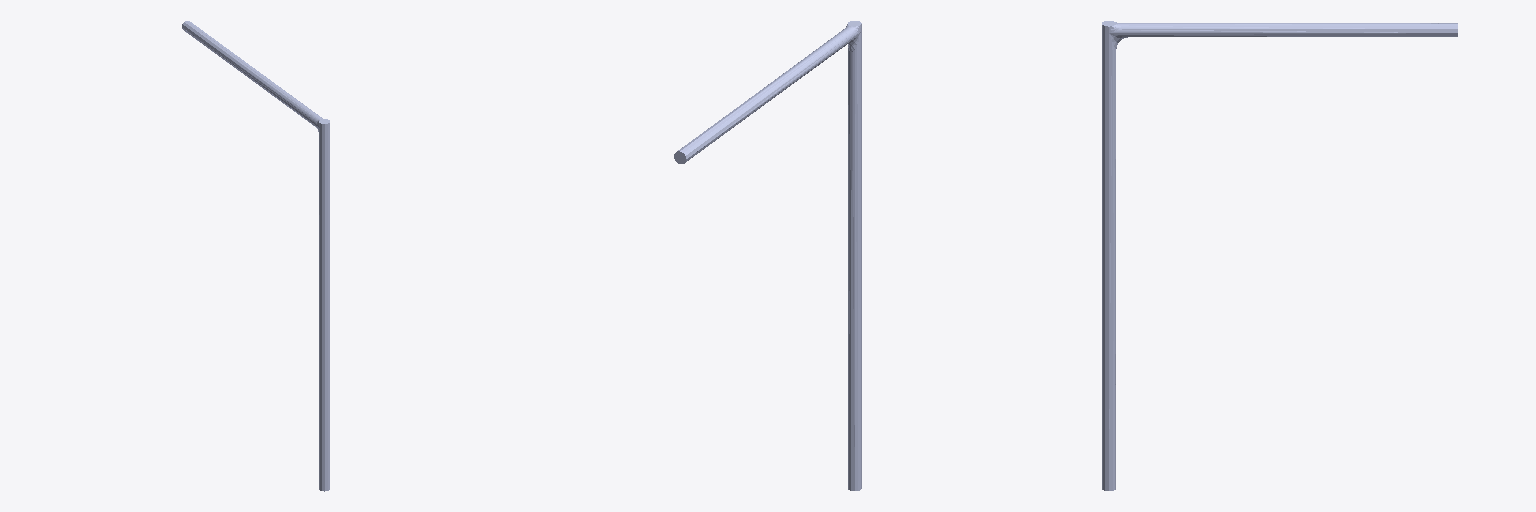
robot.urdf — gate:
<robot
  name="gate">
  <link
    name="gate">
    <inertial>
      <origin
        xyz="1.5005E-07 -0.97612 -0.52269"
        rpy="0 0 0" />
      <mass
        value="6.1039" />
      <inertia
        ixx="2.97205828183005"
        ixy="-5.96332505457148E-08"
        ixz="-3.9578228645324E-07"
        iyy="2.10863329329738"
        iyz="-0.795459454826337"
        izz="0.865396659359463" />
    </inertial>
    <visual>
      <origin
        xyz="0 0 0"
        rpy="1.5707963267949 0 0" />
      <geometry>
        <mesh
          filename="package://gate/meshes/gate.STL" />
      </geometry>
      <material
        name="">
        <color
          rgba="0.79216 0.81961 0.93333 1" />
      </material>
    </visual>
    <collision>
      <origin
        xyz="0 0 0"
        rpy="1.5707963267949 0 0" />
      <geometry>
        <mesh
          filename="package://gate/meshes/gate.STL" />
      </geometry>
    </collision>
  </link>
  <gazebo reference="gate">
    <material>Gazebo/Red</material>
  </gazebo>
  <gazebo>
    <static>true</static>
  </gazebo>
</robot>

--- Render facts (derived) ---
Views: 3 orthographic renders of the robot side by side, from view 1: azimuth 30°, elevation 25°; view 2: azimuth 150°, elevation 25°; view 3: azimuth 270°, elevation 25°.
Robot: gate — 1 links, 0 joints (none); root link gate; default pose: every joint at zero.
Visible links, largest first — view 1: gate; view 2: gate; view 3: gate.
Boxes of the visible links, x1,y1,x2,y2 form: gate: [182, 21, 329, 491]; gate: [674, 21, 861, 490]; gate: [1102, 21, 1457, 490].
Bounding box of the posed robot: 0.0508 × 1.25 × 1.8 m (x, y, z).
Meshes: 1 distinct files referenced, 1 mesh visuals loaded (1 binary STL).
